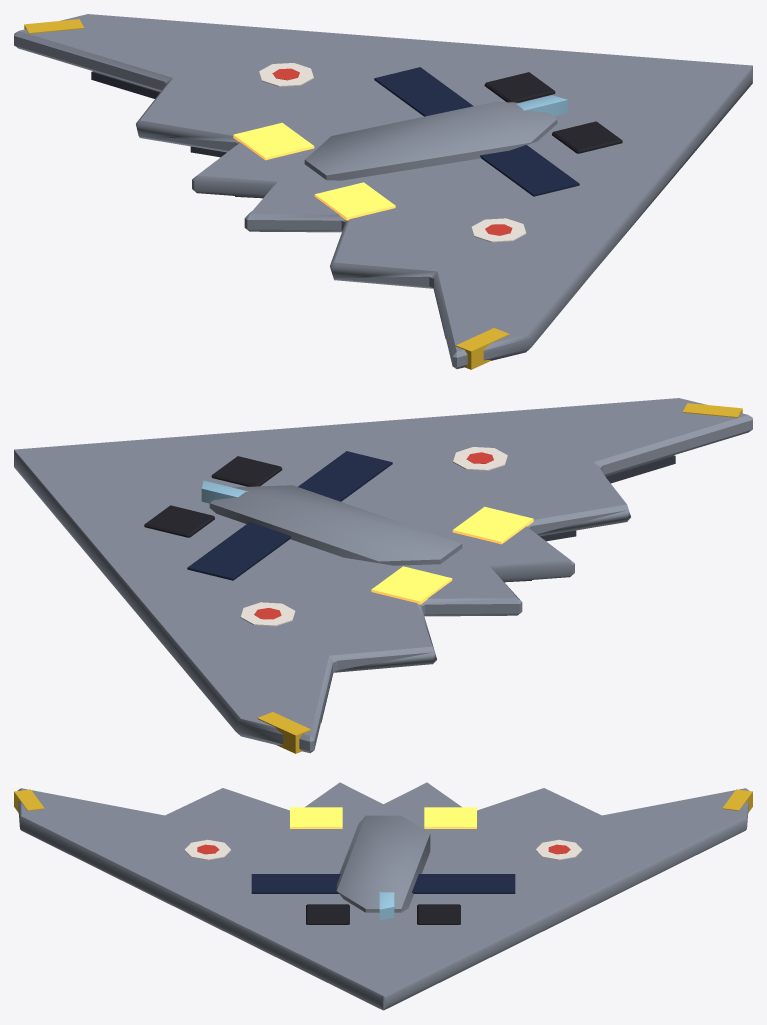
The model's file is bomber.glb.
3 views of the same model, one above another, from view 1: azimuth 30°, elevation 25°; view 2: azimuth 150°, elevation 25°; view 3: azimuth 270°, elevation 25° (orthographic). The views are drawn at different scales.
Visible parts, largest first — view 1: bomber; view 2: bomber; view 3: bomber.
Part boxes in pixels (x1,y1,x2,y2): bomber: (14,14,752,369); bomber: (14,398,752,753); bomber: (14,782,752,1010).
Bounding box in the file's own units: 34.8 × 3.11 × 50.49.
1 material, 1 textured.
